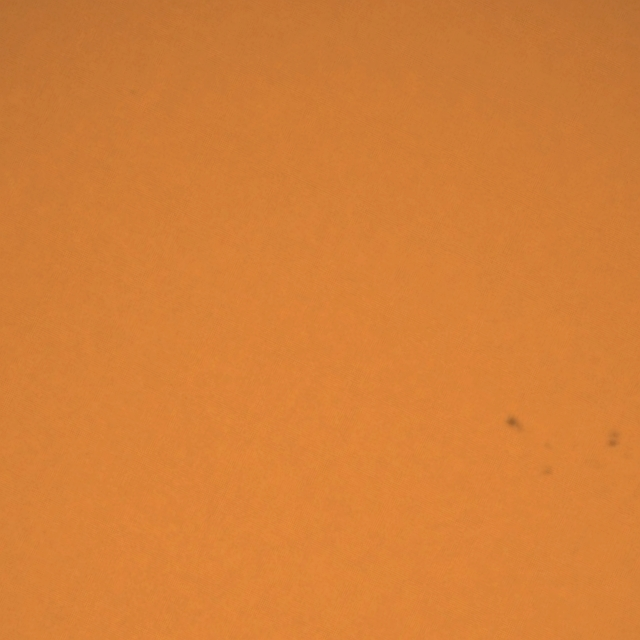sunspot: (503, 414, 524, 432), (606, 430, 621, 450)
